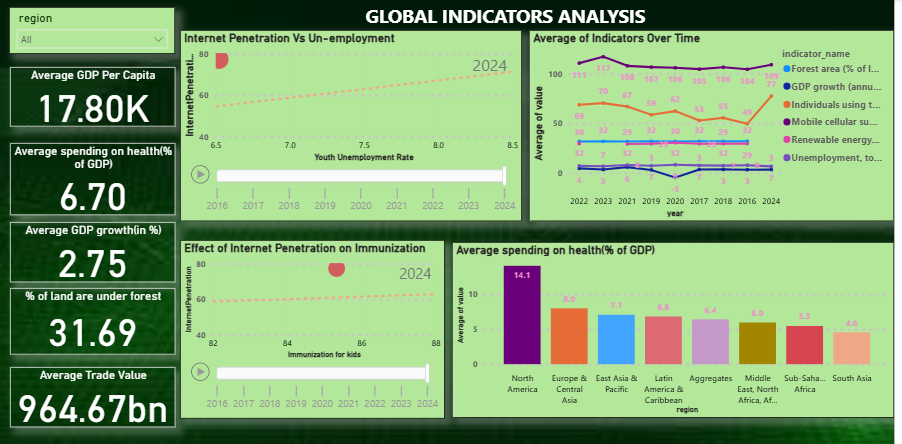

What the dashboard file says about the page in this screenshot:
{"tool":"powerbi","page":{"name":"Page 1","canvas":[1280,720],"ordinal":0},"visuals":[{"type":"textbox","box":[520.2,0,613.7,66.6],"z":0},{"type":"card","title":"Average GDP Per Capita","fields":{"Values":["Avg(economic.value)"]},"box":[17.9,97.4,235.9,84.6],"z":1000},{"type":"card","title":"Average Trade Value","fields":{"Values":["Avg(trade.value)"]},"box":[17.9,525.6,235.9,85.9],"z":2000},{"type":"card","title":"Average spending on health(% of GDP)","fields":{"Values":["Avg(health.value)"]},"box":[17.9,205.1,235.9,102.6],"z":3000},{"type":"card","title":"Average GDP growth(in %)","fields":{"Values":["Avg(economic.value)"]},"box":[17.9,317.9,235.9,85.9],"z":4000},{"type":"card","title":"% of land are under forest","fields":{"Values":["Avg(environment.value)"]},"box":[17.9,412.8,235.9,94.9],"z":5000},{"type":"slicer","fields":{"Values":["economic.region"]},"box":[16.7,11.5,237.2,66.7],"z":6000},{"type":"clusteredColumnChart","title":"Average spending on health(% of GDP)","fields":{"Category":["health.region"],"Y":["Avg(health.value)"]},"box":[648.7,347.4,630.8,251.3],"z":7000},{"type":"lineChart","title":"Average of Indicators Over Time","fields":{"Category":["Line_Chart.year"],"Y":["Avg(Line_Chart.value)"],"Series":["Line_Chart.indicator_name"]},"box":[759,44.9,520.5,273.1],"z":8000},{"type":"scatterChart","title":"Effect of Internet Penetration on Immunization","fields":{"X":["measure table.Immunization for kids"],"Y":["measure table.InternetPenetration"],"Category":["scatter_plot.year"],"Play":["scatter_plot.year"],"Size":["measure table.GDPperCapita"]},"box":[261.5,343.6,378.2,255.1],"z":9000},{"type":"scatterChart","title":"Internet Penetration Vs Un-employment","fields":{"X":["measure table.Youth Unemployment Rate"],"Y":["measure table.InternetPenetration"],"Size":["measure table.GDPperCapita"],"Play":["scatter_plot.year"]},"box":[261.5,44.9,488.5,273.1],"z":10000}]}

Visuals, with their boxes on the page's 1280x720 design canvas (x1, y1, x2, y2). These are canvas units, not pixel positions in the 902x444 screenshot, which may show the page scaled, cropped or inside an application window:
textbox: 520,0,1134,67
"Average GDP Per Capita" card: 18,97,254,182
"Average Trade Value" card: 18,526,254,612
"Average spending on health(% of GDP)" card: 18,205,254,308
"Average GDP growth(in %)" card: 18,318,254,404
"% of land are under forest" card: 18,413,254,508
slicer - economic.region: 17,12,254,78
"Average spending on health(% of GDP)" clusteredColumnChart: 649,347,1280,599
"Average of Indicators Over Time" lineChart: 759,45,1280,318
"Effect of Internet Penetration on Immunization" scatterChart: 262,344,640,599
"Internet Penetration Vs Un-employment" scatterChart: 262,45,750,318
